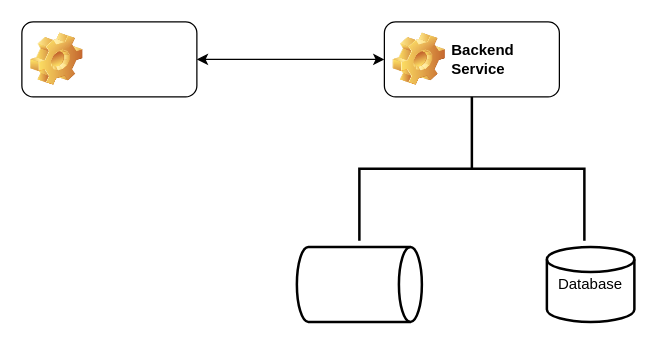
Some shapes in this 658 by 345 pixel diagram are drawn without their labels. Each missing label, with the box of its shape:
Cache: (295, 245, 422, 322)
Frontend Service: (21, 21, 197, 97)
